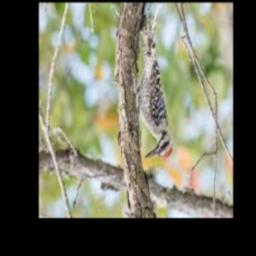Woodpecker: (137, 3, 173, 159)
